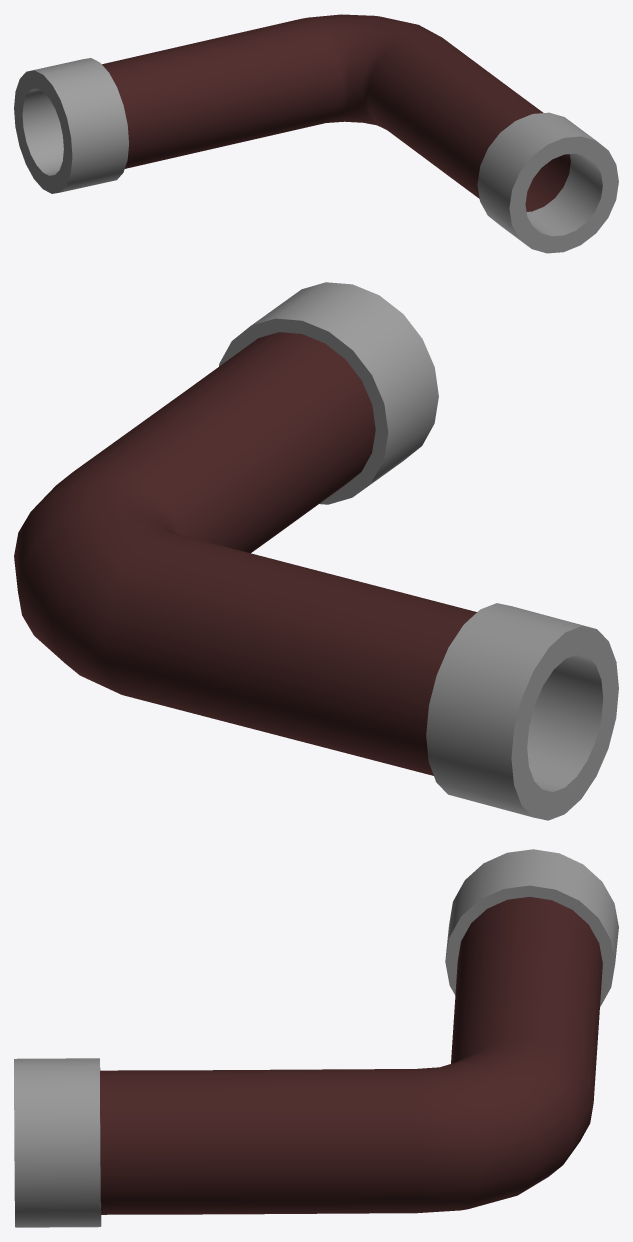
File: pijp1.fbx
3 renders of one model, top to bottom at view 1: azimuth 30°, elevation 25°; view 2: azimuth 150°, elevation 25°; view 3: azimuth 270°, elevation 25°, orthographic. The views are drawn at different scales.
Visible parts, largest first — view 1: waterpijp2; view 2: waterpijp2; view 3: waterpijp2.
Boxes of the visible parts, <box> form: waterpijp2: <box>14,14,618,253</box>; waterpijp2: <box>14,282,618,820</box>; waterpijp2: <box>14,849,618,1227</box>.
Bounding box in the file's own units: 16.1 × 4.64 × 16.3.
